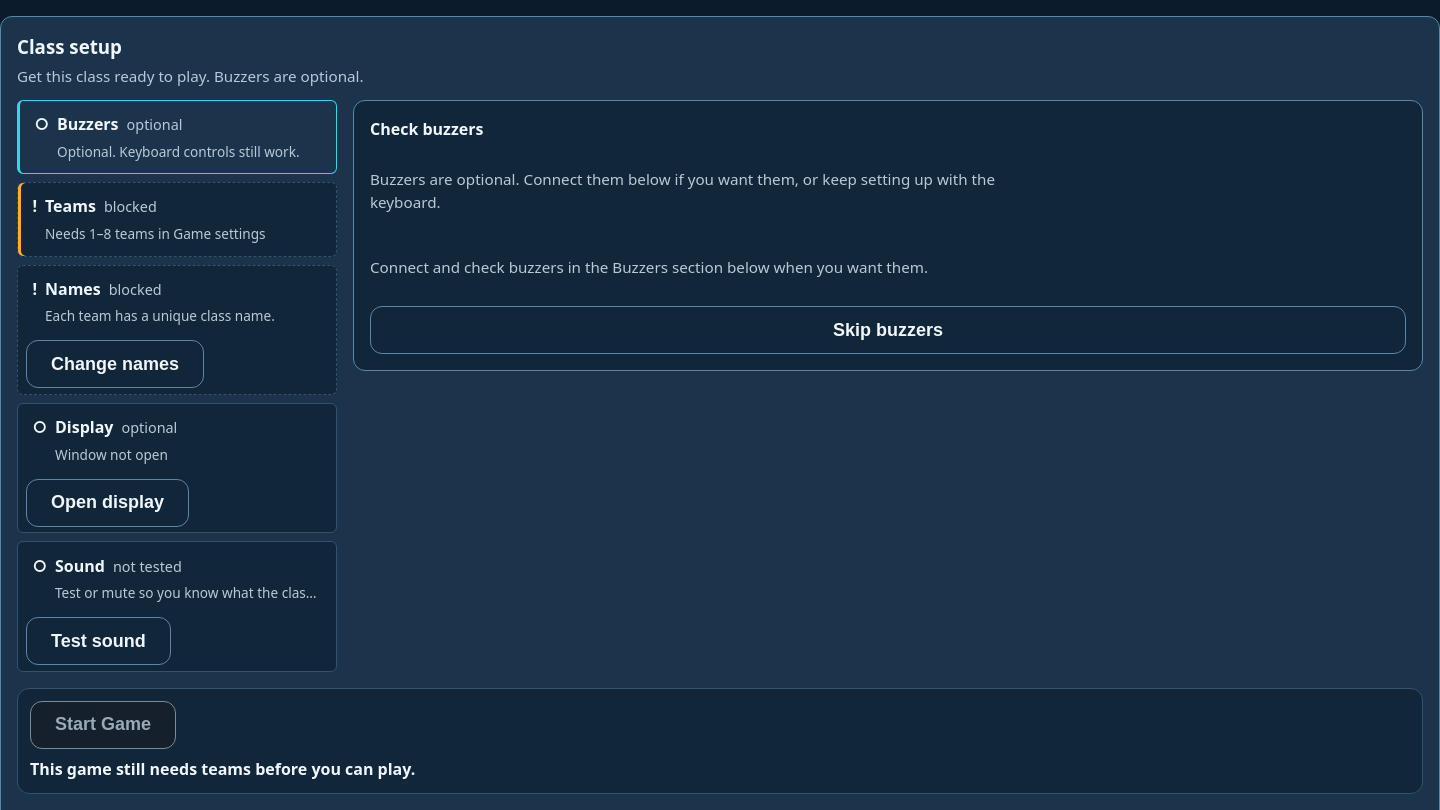
ClassroomSetupPanel › selects Names when blocked and offers Fix team count without leaving selection on Teams
Click the button with test id "readiness-names" at {"x": 73, "y": 289}, box [26,271,328,332]
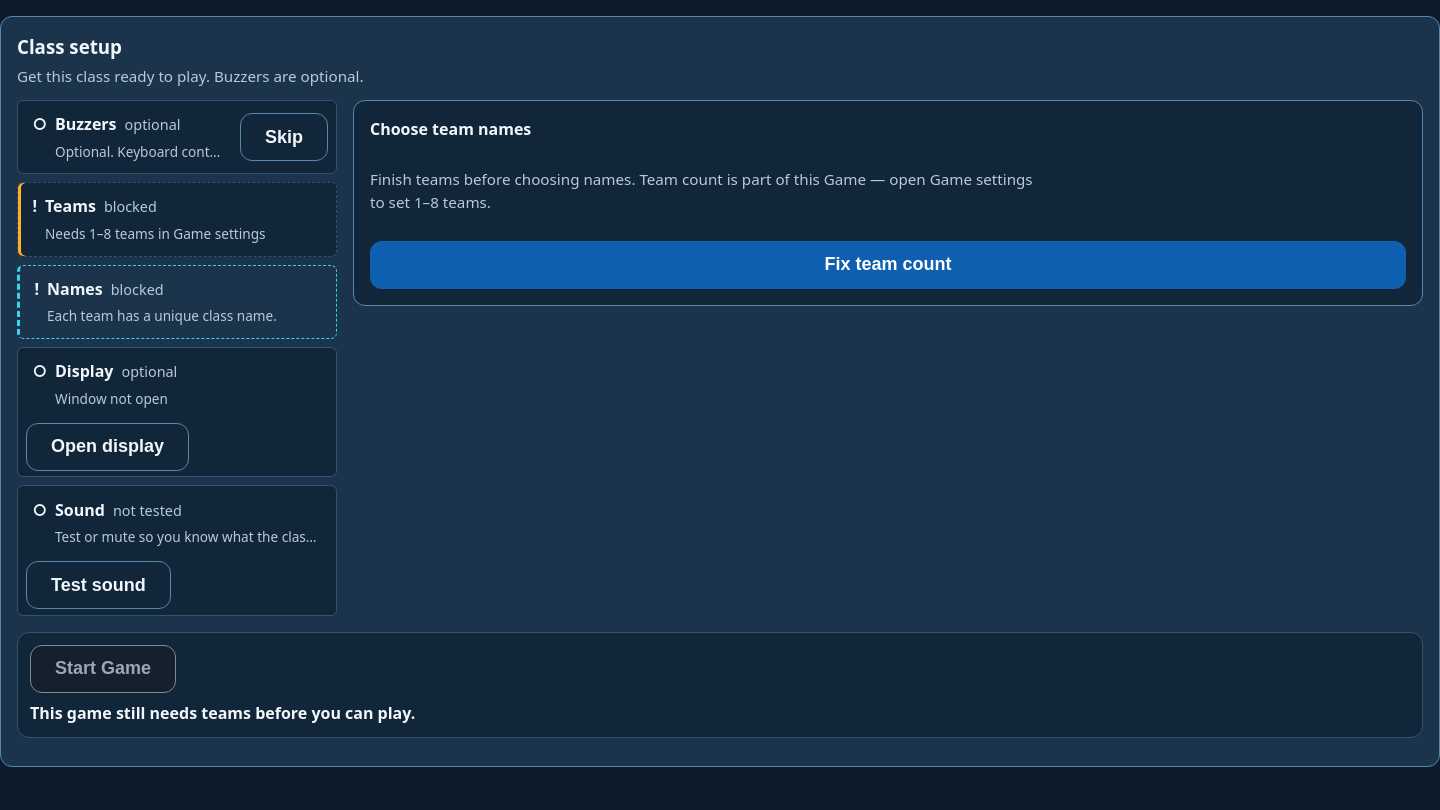
Check: the element with test id "setup-names-task" is shown, box [370,153,1406,289]
Check: the text with test id "setup-names-blocked-copy" shows "Finish teams", box [370,169,1033,212]
Check: the button with test id "setup-fix-team-count" is shown, box [370,241,1406,289]
